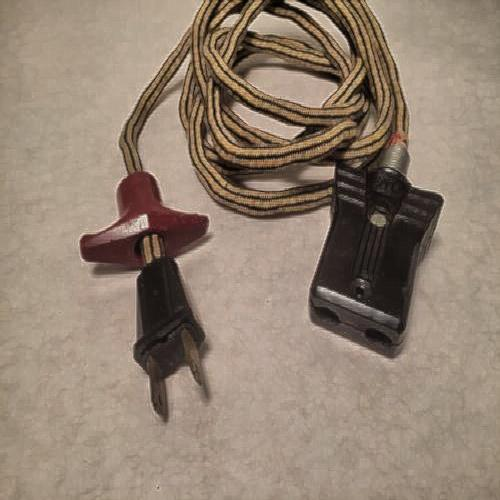coffee_maker: (297, 143, 450, 351)
